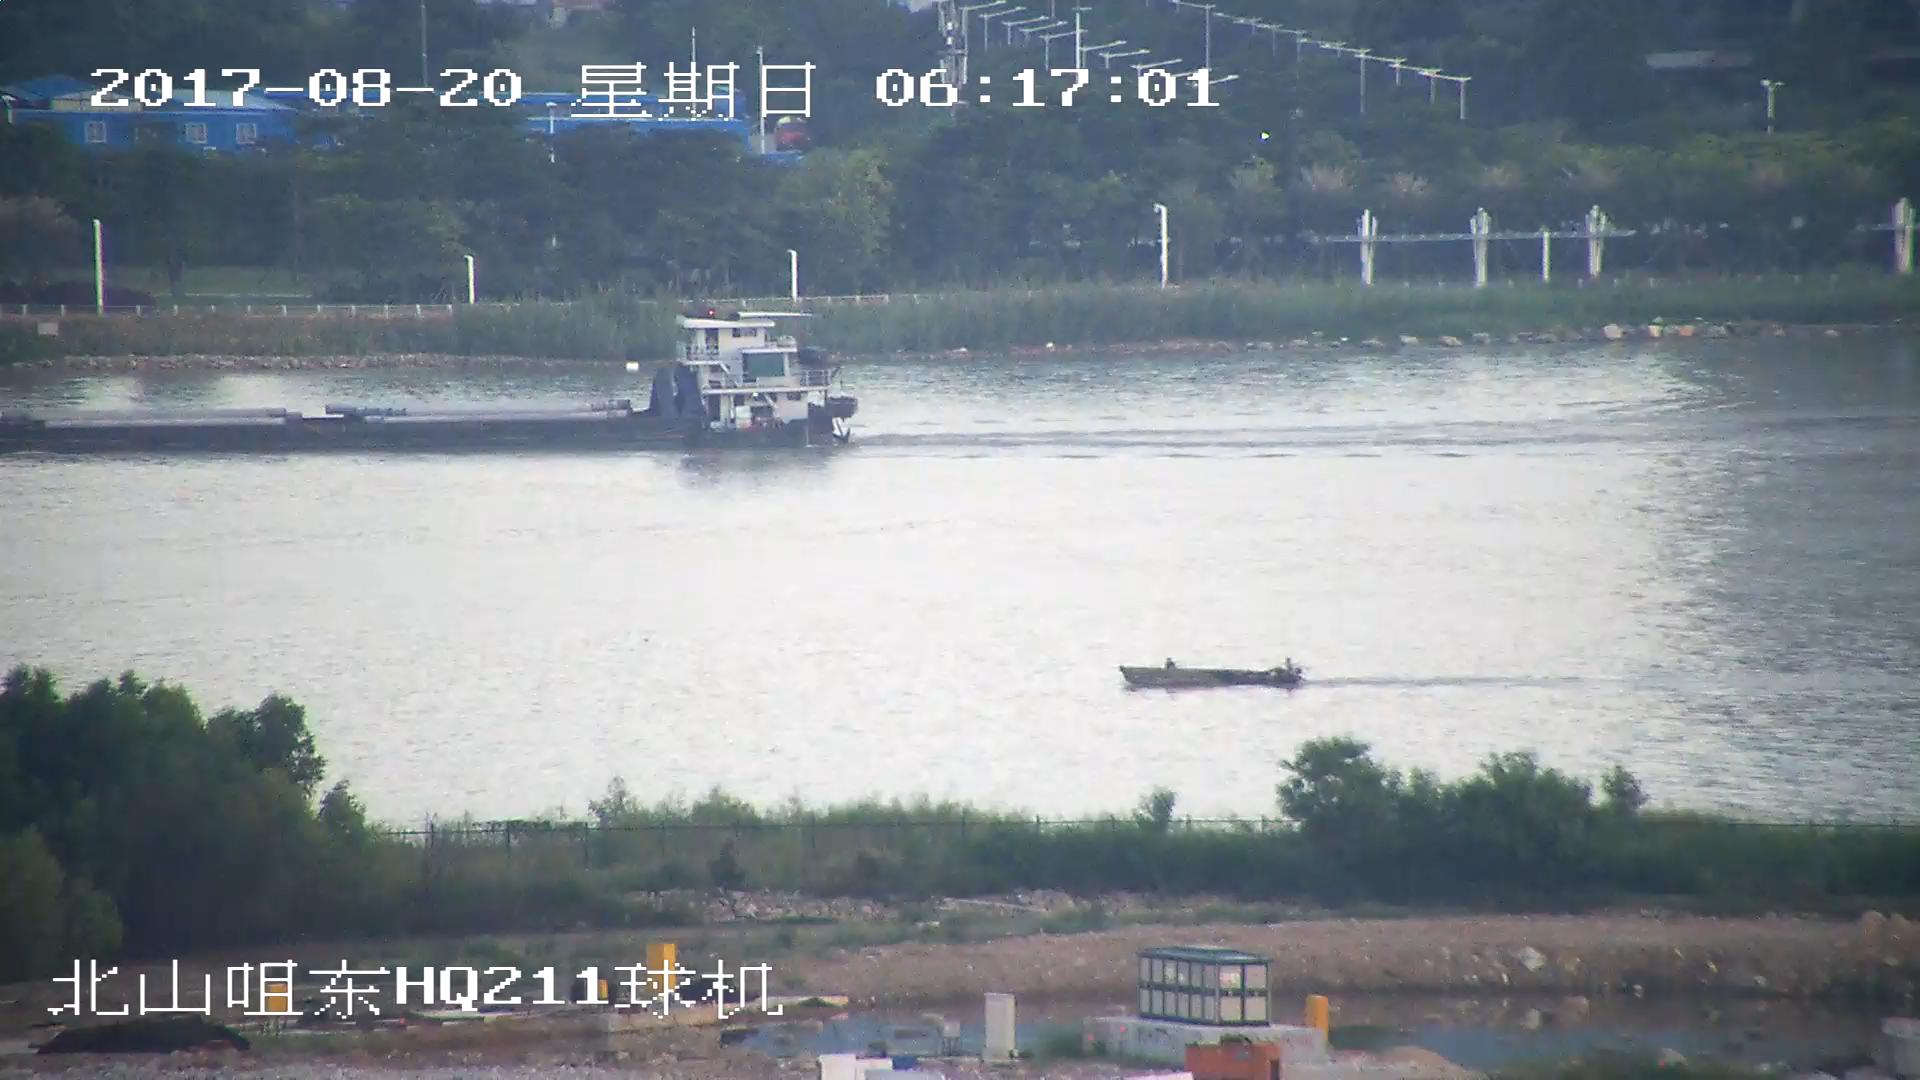bulk cargo carrier: (1, 305, 863, 449)
fishing boat: (1118, 660, 1300, 690)
